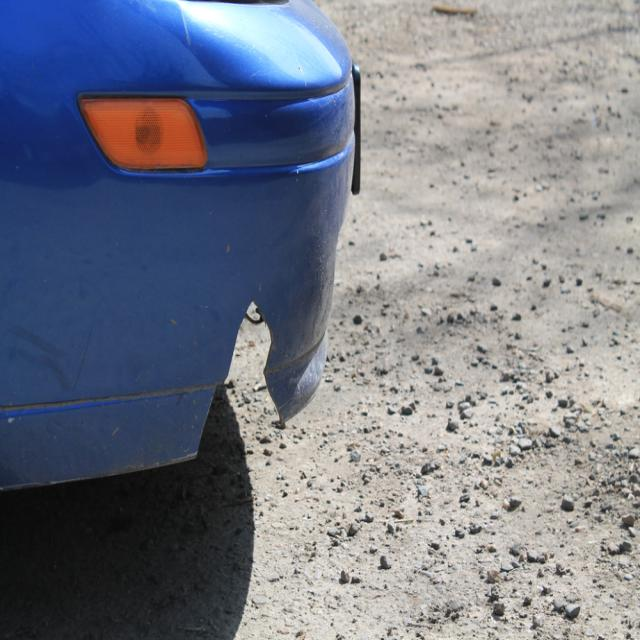crack: (193, 298, 286, 458)
